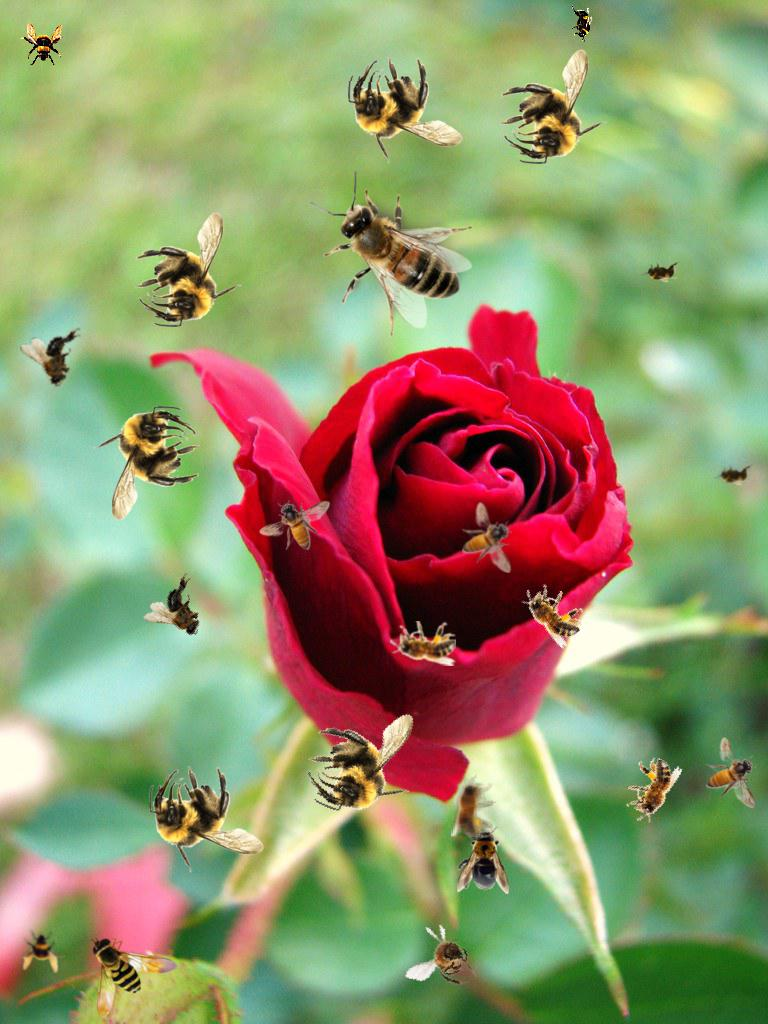Bee: (310, 170, 472, 337), (295, 687, 434, 832), (347, 56, 464, 165), (500, 49, 607, 164), (93, 406, 200, 521), (135, 212, 242, 327), (149, 766, 264, 873), (90, 935, 178, 1017), (140, 570, 223, 652), (404, 918, 489, 996), (512, 574, 592, 651), (19, 324, 94, 394), (618, 751, 684, 830), (706, 737, 756, 808), (462, 502, 512, 573), (259, 500, 330, 550), (457, 826, 509, 894), (451, 774, 496, 840), (390, 621, 456, 666), (21, 929, 65, 973), (20, 22, 64, 66), (714, 464, 754, 486), (571, 4, 593, 44), (641, 261, 681, 283)
